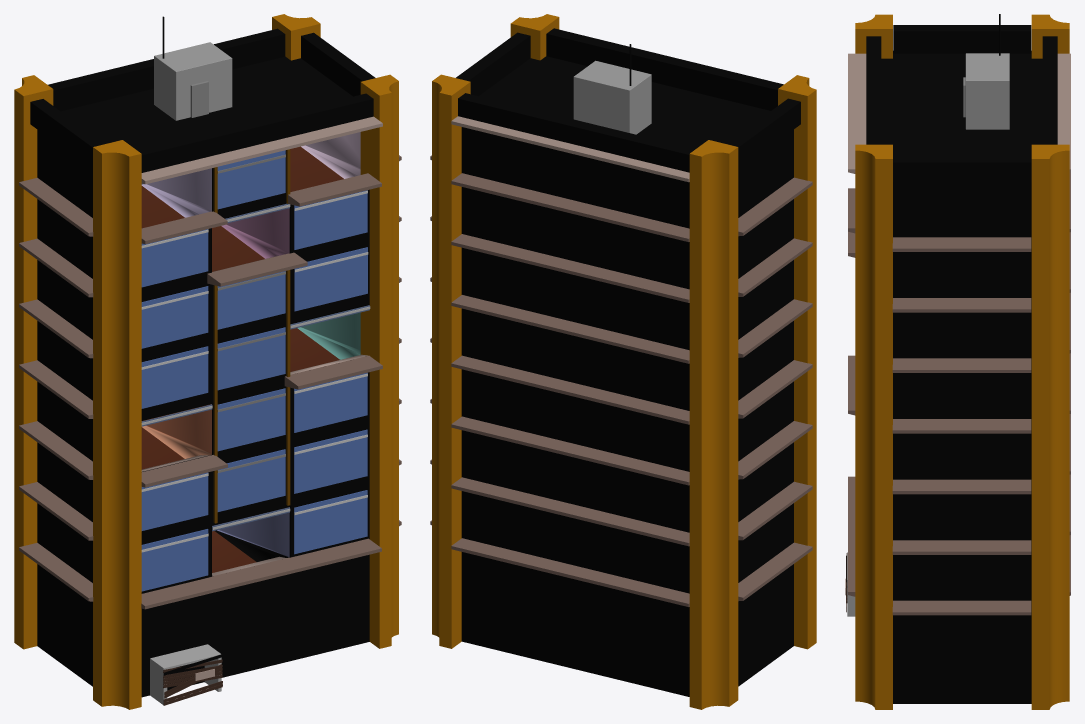
Rendered from MainBuilding.fbx.
3 renders of one model, left to right at view 1: azimuth 30°, elevation 25°; view 2: azimuth 150°, elevation 25°; view 3: azimuth 270°, elevation 25°, orthographic.
Parts seen in each view (by area): view 1: MainBuilding; view 2: MainBuilding; view 3: MainBuilding.
Boxes of the visible parts, x1,y1,x2,y2 form: MainBuilding: (14,14,401,709); MainBuilding: (430,14,816,709); MainBuilding: (845,14,1070,709).
Size of the model in its own units: 1615 by 3028 by 1014.
